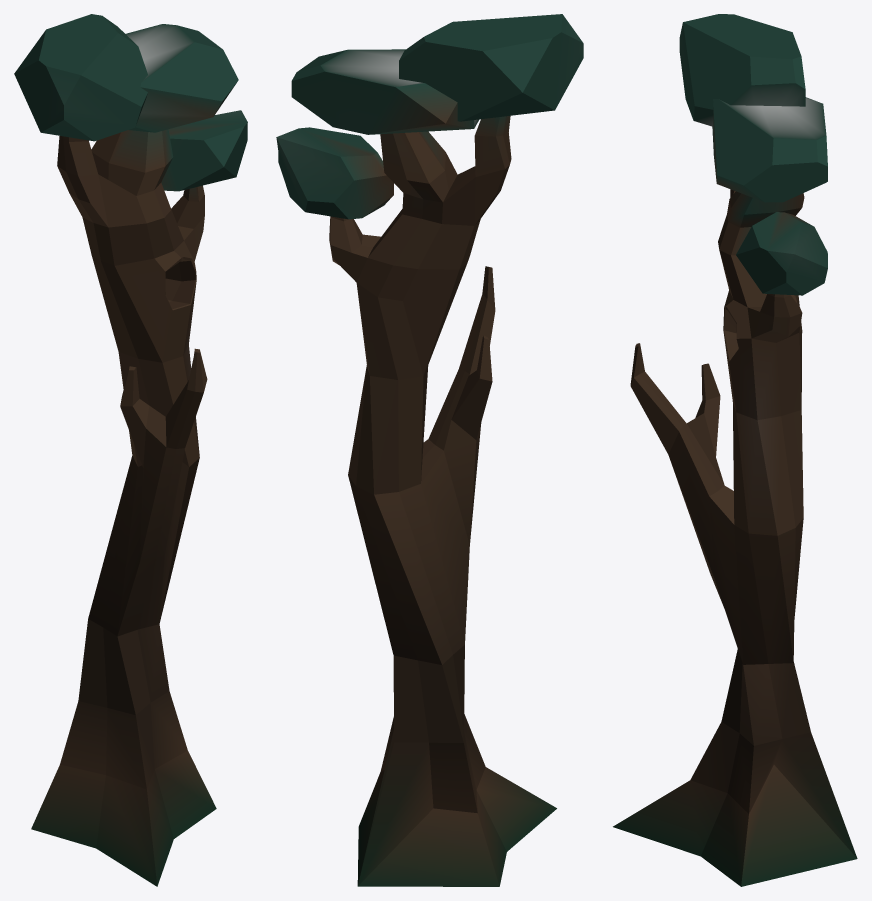
Rendered from tree_4.fbx.
3 views of the same model, side by side, from view 1: azimuth 30°, elevation 25°; view 2: azimuth 150°, elevation 25°; view 3: azimuth 270°, elevation 25° (orthographic). The views are drawn at different scales.
Visible parts, largest first — view 1: Cube.476; view 2: Cube.476; view 3: Cube.476.
Boxes of the visible parts, <box> form: Cube.476: <box>14,14,247,886</box>; Cube.476: <box>276,14,583,886</box>; Cube.476: <box>613,14,857,886</box>.
Size of the model in its own units: 391 by 1251 by 354.
